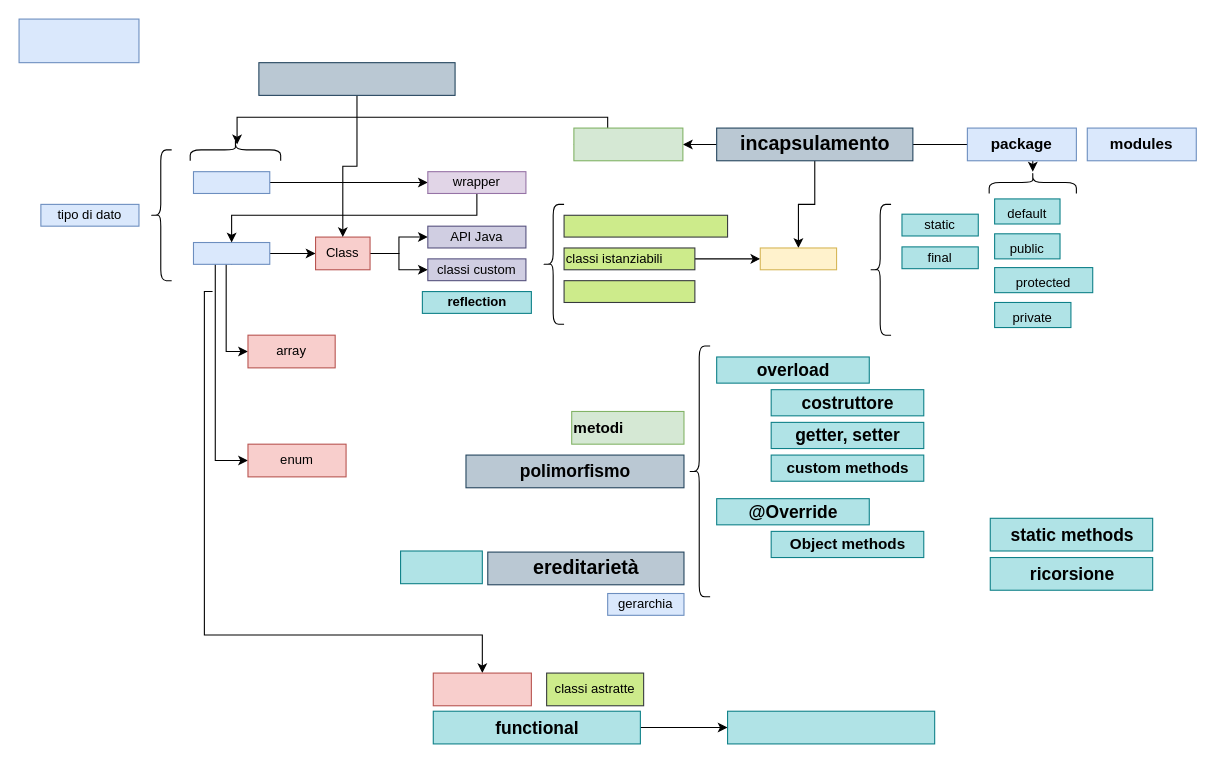
This 1215x763 diagram has some shape labels left out. Here are the shapes that lost their labels. From the top down, the box of each, then its label:
(18, 18, 139, 63): Java OOP
(258, 62, 455, 95): astrazione
(573, 127, 683, 161): proprietà
(192, 171, 270, 193): primitivi
(563, 214, 728, 237): classi NON istanziabili
(192, 241, 270, 264): riferimenti
(759, 247, 837, 270): Object
(563, 280, 695, 302): classi ibride
(399, 550, 482, 584): DRY
(432, 672, 531, 706): interfacce
(726, 710, 935, 744): lambda
